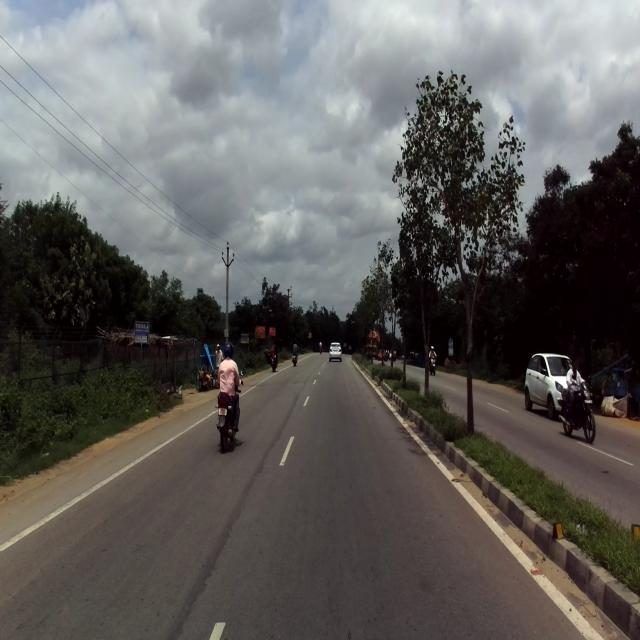motorcycle_Hero: (557, 372, 596, 445), (214, 369, 247, 453)
